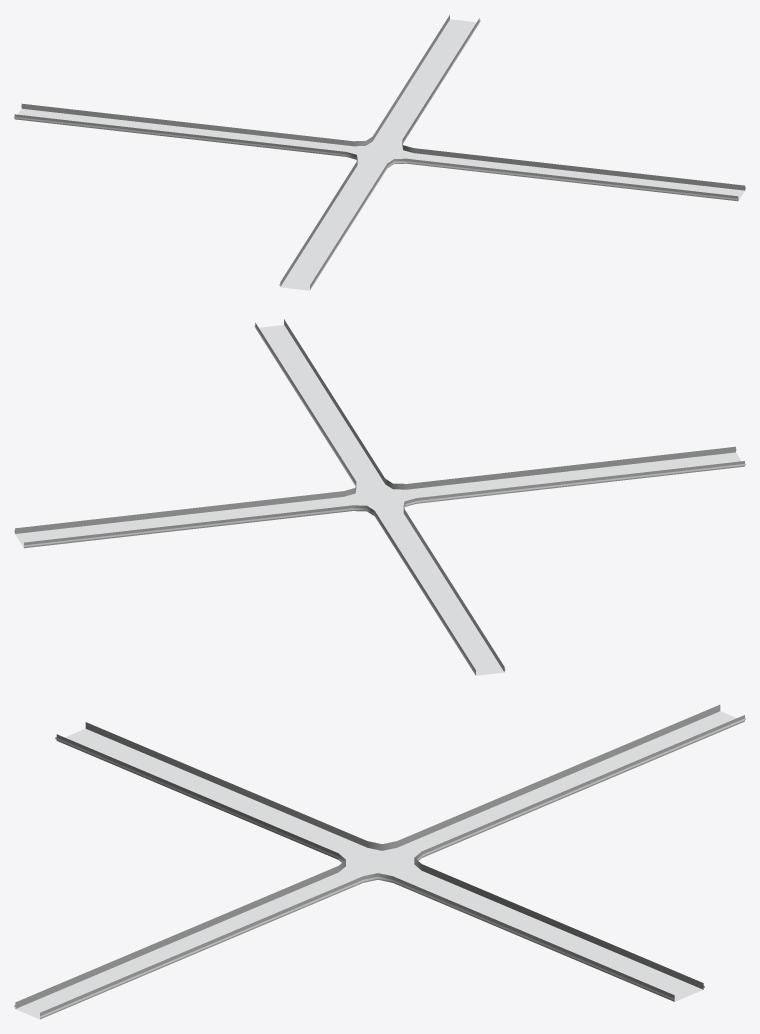
Rendered from M_xidingdeng01.FBX.
3 renders of one model, top to bottom at view 1: azimuth 30°, elevation 25°; view 2: azimuth 150°, elevation 25°; view 3: azimuth 270°, elevation 25°, orthographic. The views are drawn at different scales.
Parts seen in each view (by area): view 1: M_cidingdeng01_01, M_cidingdeng01_02, M_cidingdeng01_03; view 2: M_cidingdeng01_01, M_cidingdeng01_02, M_cidingdeng01_03; view 3: M_cidingdeng01_01, M_cidingdeng01_03, M_cidingdeng01_02.
Boxes of the visible parts, bbox=[...] form: M_cidingdeng01_01: bbox=[14, 15, 745, 290]; M_cidingdeng01_02: bbox=[21, 106, 738, 289]; M_cidingdeng01_03: bbox=[14, 20, 745, 285]; M_cidingdeng01_01: bbox=[15, 319, 744, 675]; M_cidingdeng01_02: bbox=[23, 449, 736, 673]; M_cidingdeng01_03: bbox=[14, 325, 745, 670]; M_cidingdeng01_01: bbox=[15, 704, 744, 1019]; M_cidingdeng01_03: bbox=[40, 876, 674, 1017]; M_cidingdeng01_02: bbox=[14, 718, 745, 1006].
Bounding box in the file's own units: 17.05 × 0.1726 × 17.05.
